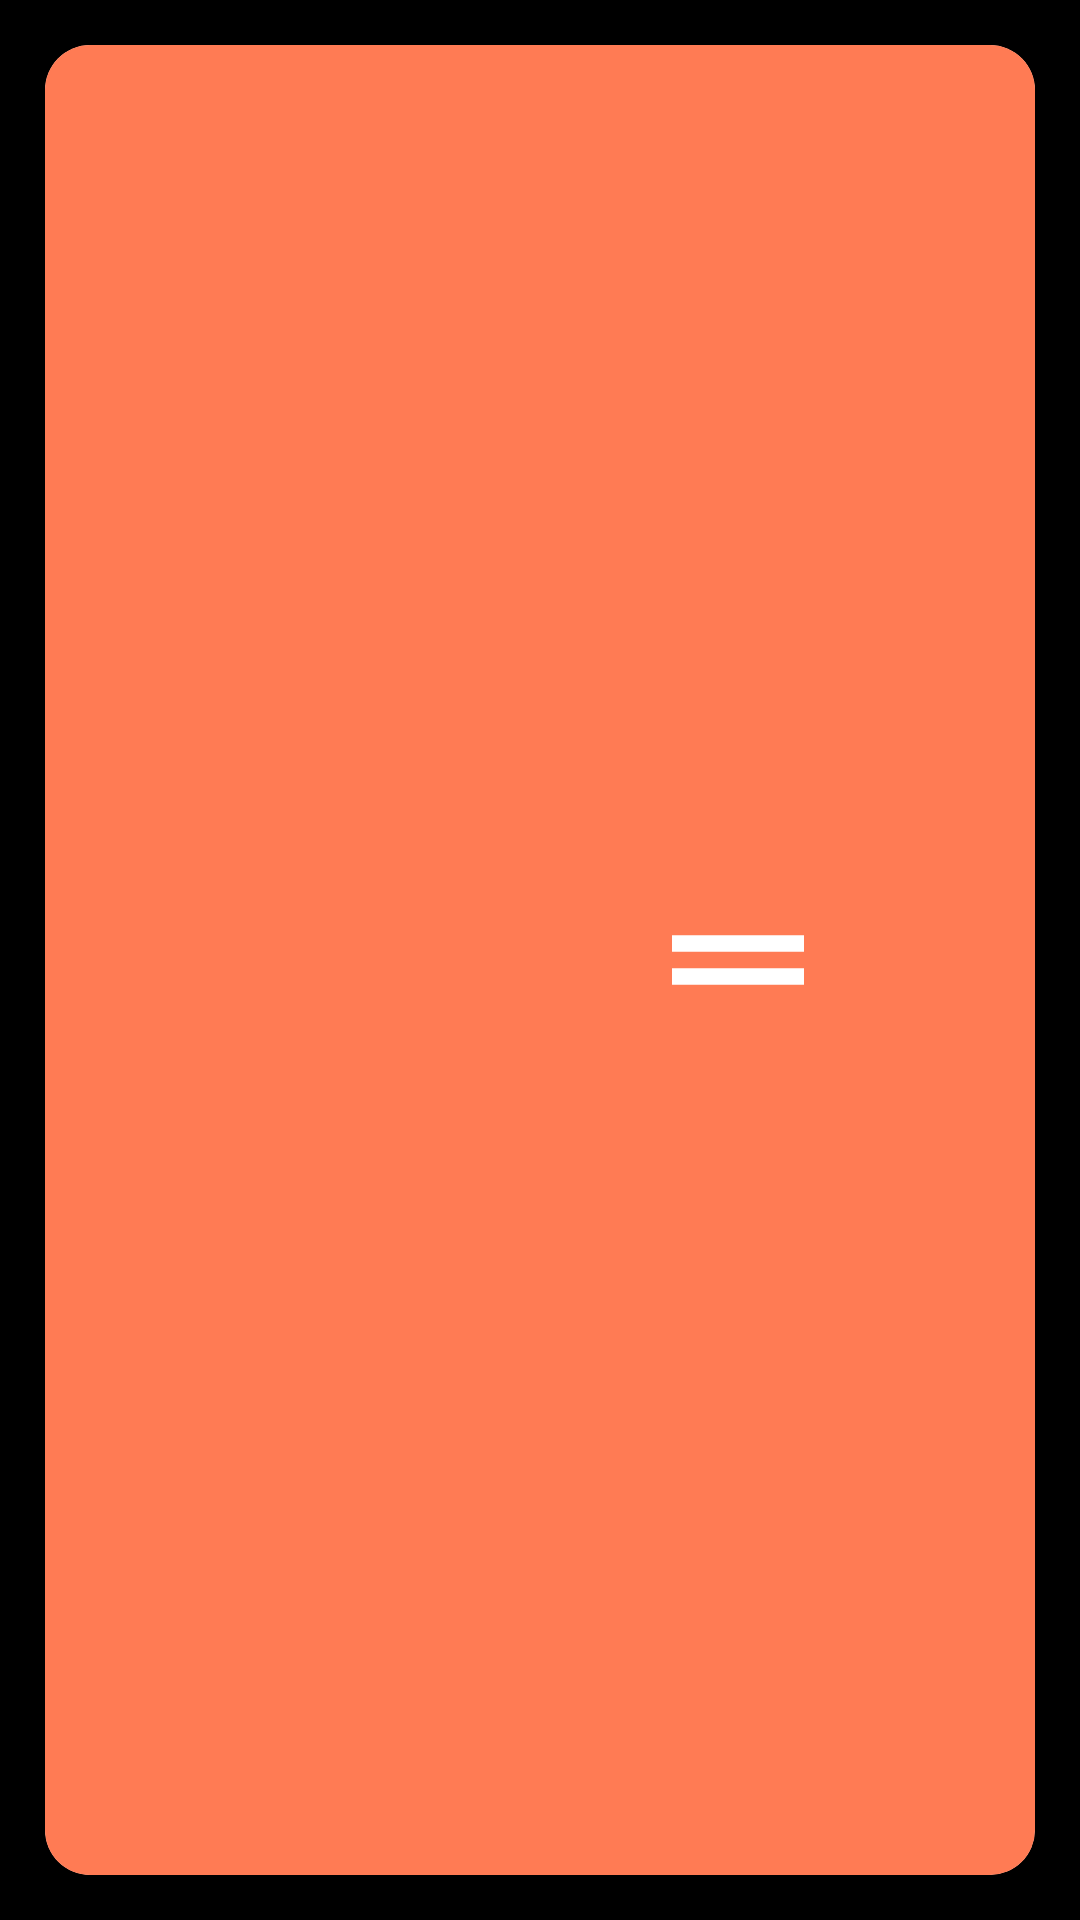

Point at icon controls on the screen. Image size 1080 × 1920, points as point (x, y).
drag handle: point (738, 960)
